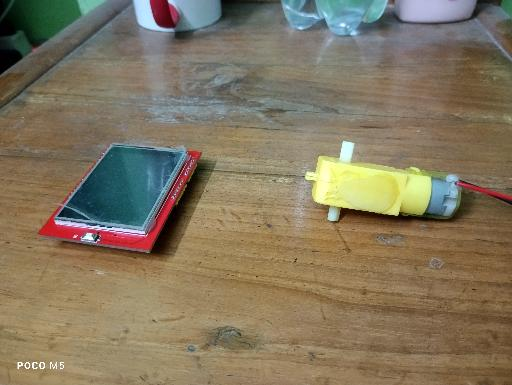Display: (36, 141, 203, 254)
Motor: (304, 140, 463, 224)
